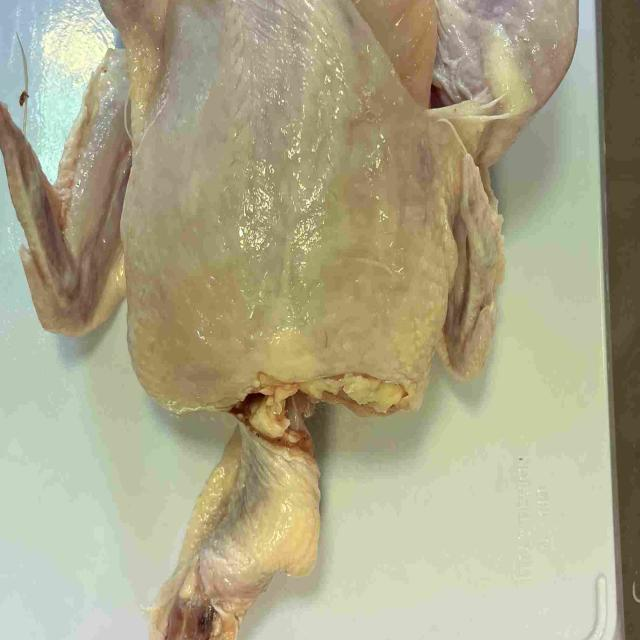breast: (126, 0, 446, 418), (152, 400, 319, 640)
leg: (452, 0, 577, 170)
wing: (0, 38, 131, 335)
